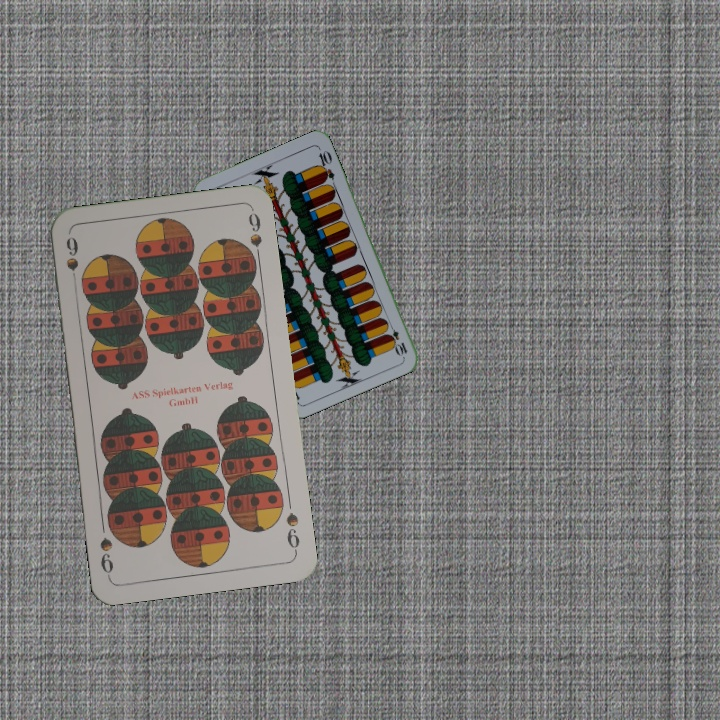E10: (384, 319, 410, 358)
S9: (282, 509, 302, 556), (62, 232, 81, 273)
